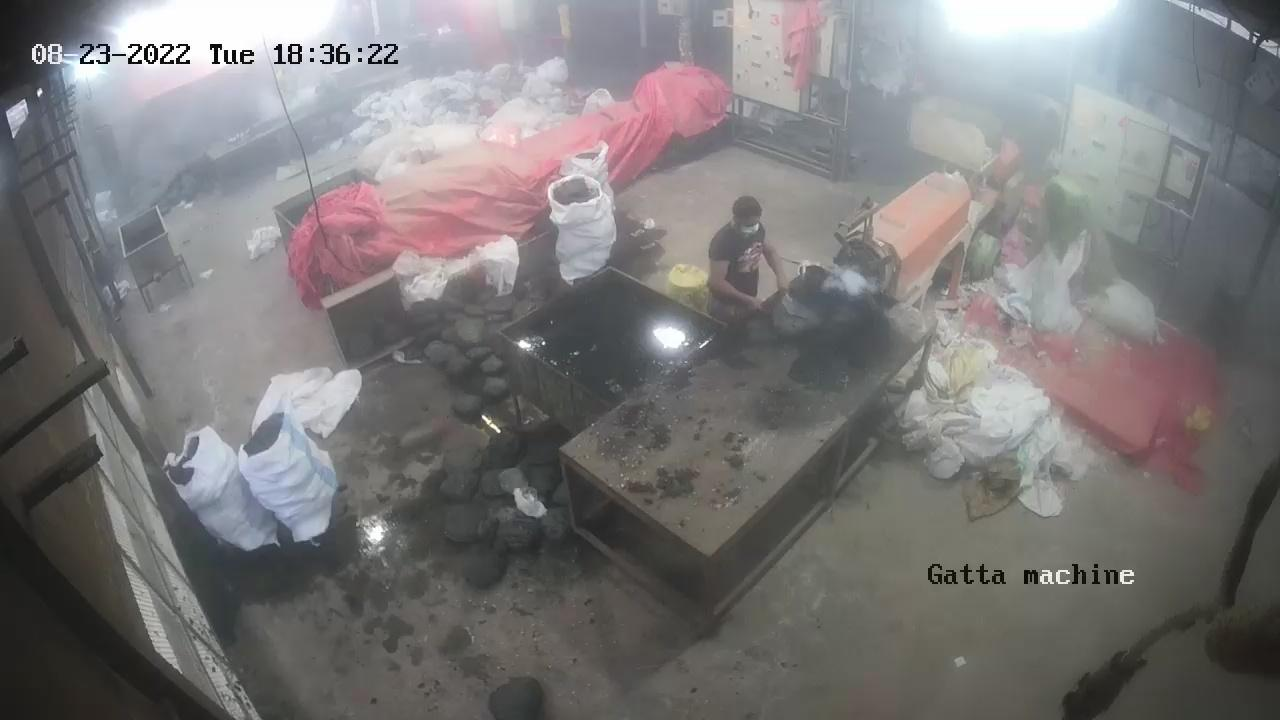person: (712, 190, 780, 323)
